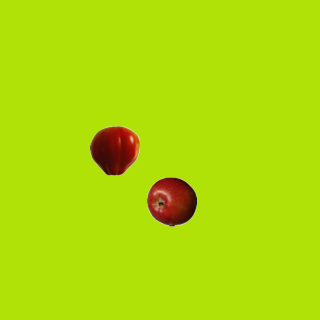Apple Braeburn: (146, 176, 196, 226)
Tomato 1: (89, 125, 139, 175)
